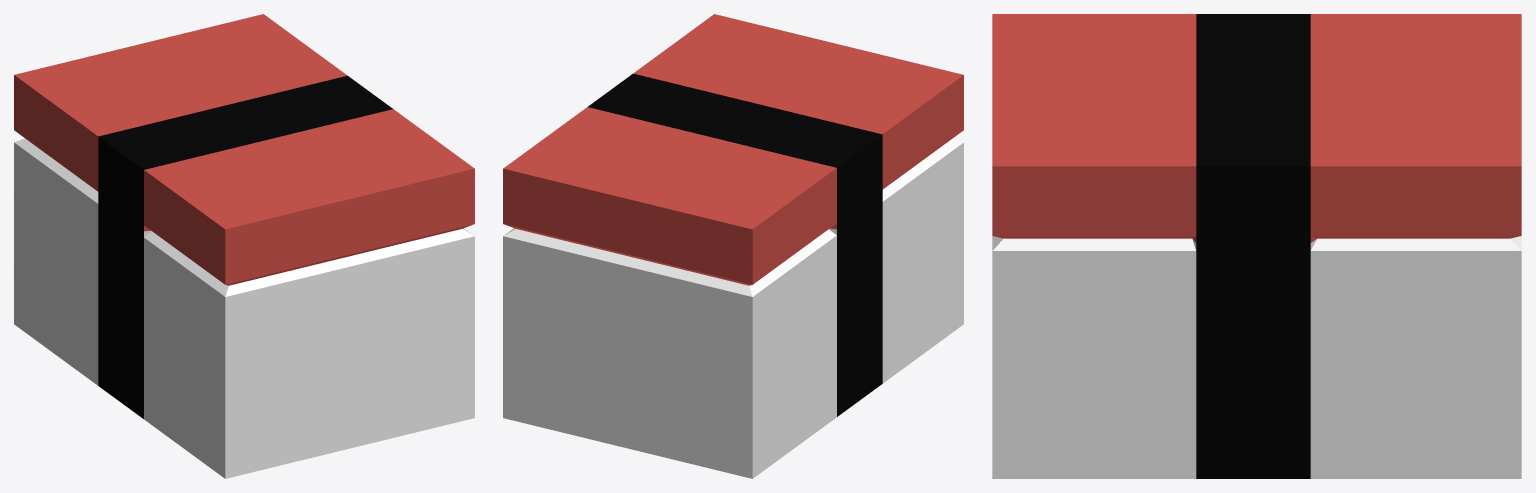
Rendered from sashimi_01_broken.fbx.
3 renders of one model, left to right at view 1: azimuth 30°, elevation 25°; view 2: azimuth 150°, elevation 25°; view 3: azimuth 270°, elevation 25°, orthographic. The views are drawn at different scales.
Visible parts, largest first — view 1: sashimi_01, salmon; view 2: sashimi_01, salmon; view 3: sashimi_01, salmon.
Part boxes in pixels (left/top/right/bottom): sashimi_01: left=14, top=138, right=474, bottom=478; salmon: left=14, top=14, right=474, bottom=285; sashimi_01: left=503, top=138, right=963, bottom=478; salmon: left=503, top=14, right=963, bottom=285; sashimi_01: left=992, top=236, right=1521, bottom=478; salmon: left=992, top=14, right=1521, bottom=243.
Size of the model in its own units: 172 by 164 by 252.
1 material, 1 textured.
